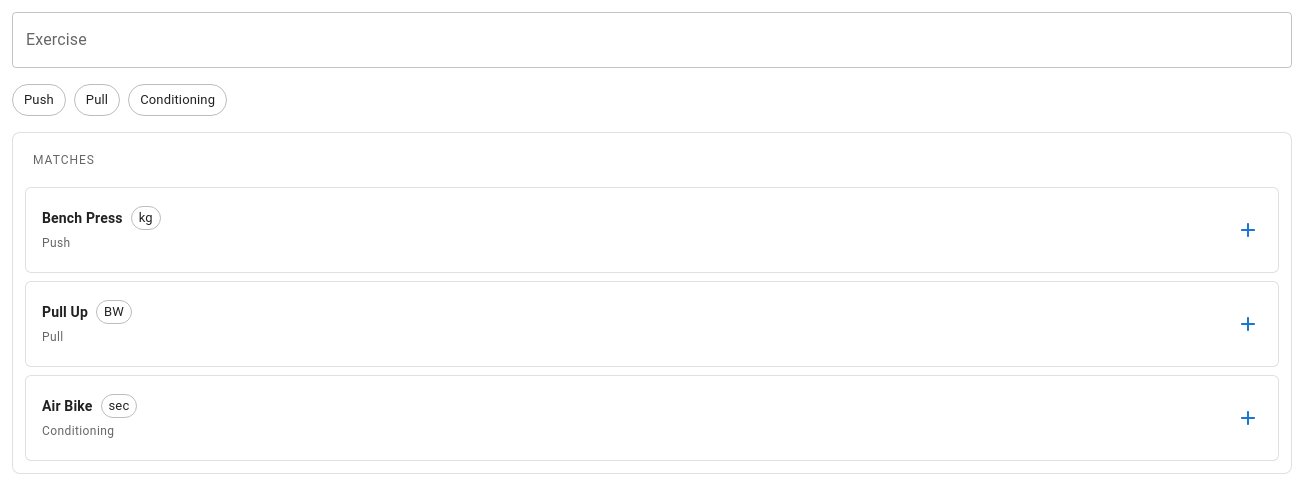
Test: TemplateExercisePickerForm › loads remote search matches through the shared MSW handlers
Type "bike" into the search field labelled "Exercise" at (652, 40), box [12,12,1292,68]
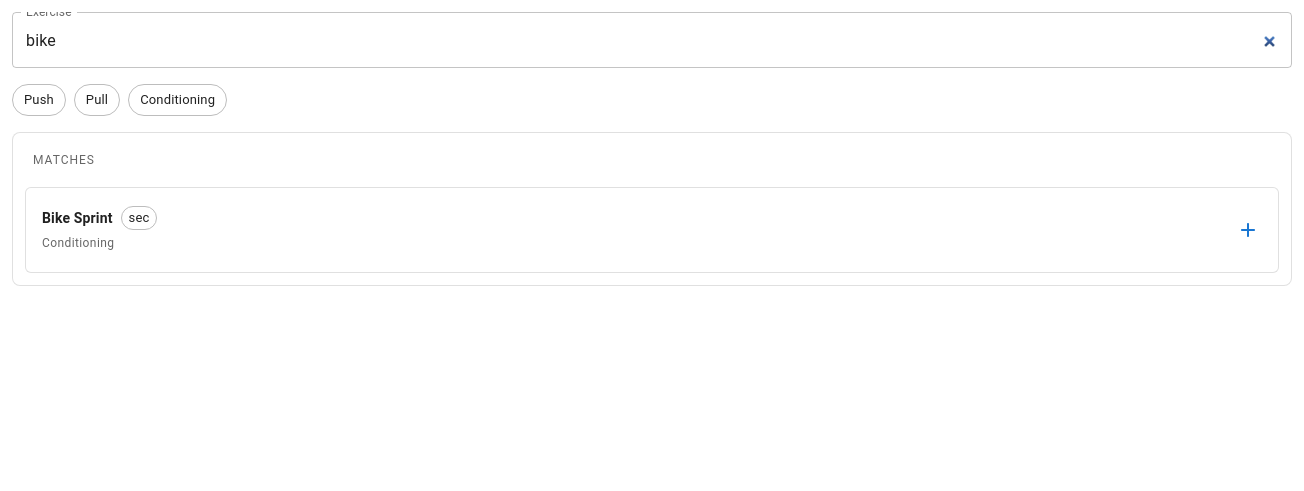
Result: the text "Bike Sprint" is shown at [42,208,113,228]
Result: the button "Bench Press" is gone
